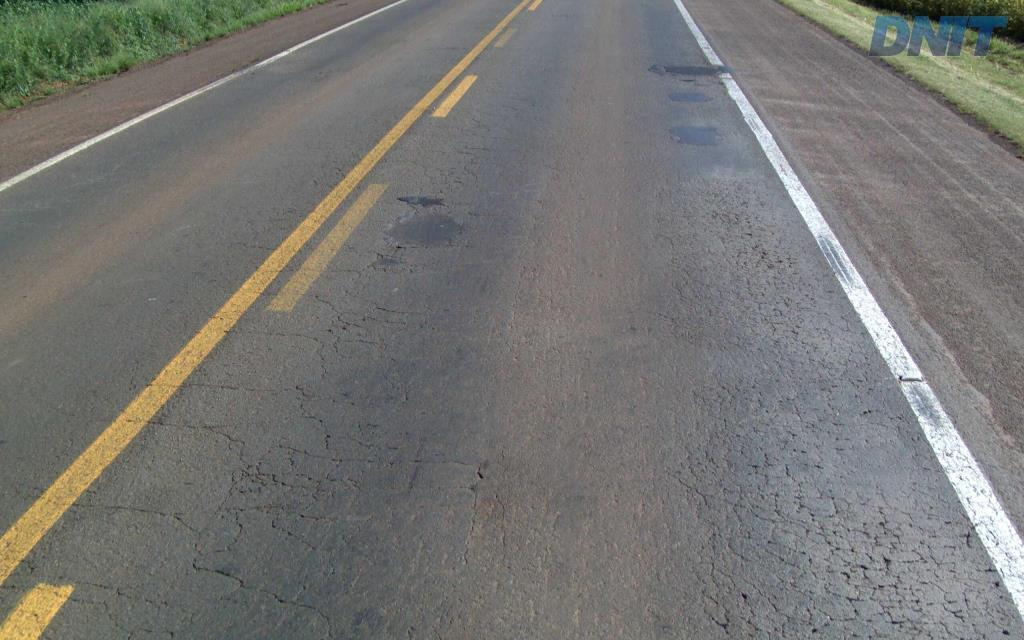crack: (703, 416, 740, 477)
